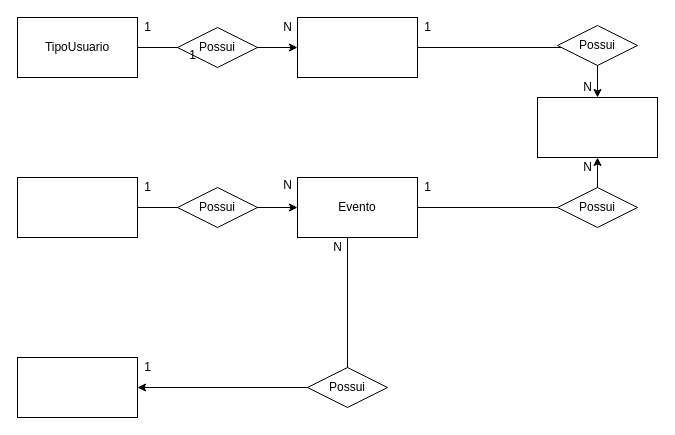
The diagram is 675 pixels wide and 435 high, and some of its shapes have lost their labels. Each missing label, with the centre of its shape:
"Instituição" belongs at [77,387].
"Presença" belongs at [597,127].
"TipoEvento" belongs at [77,207].
"Usuario" belongs at [357,47].
